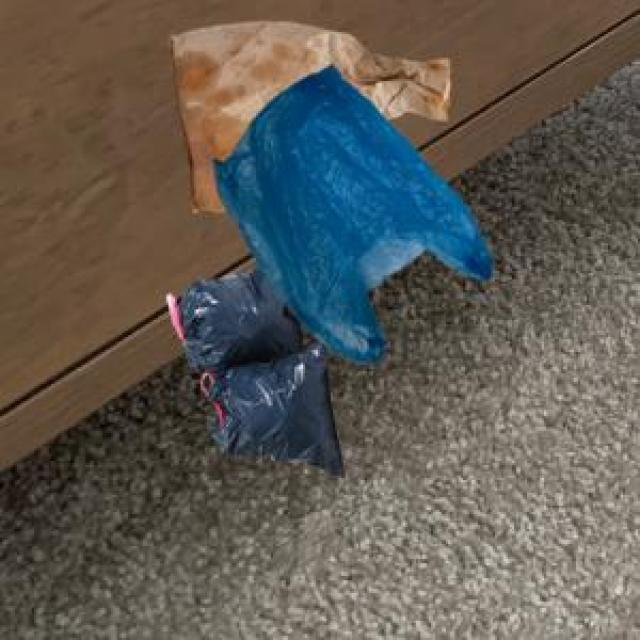miscellaneous trash: (162, 265, 339, 474)
paper: (168, 19, 446, 209)
